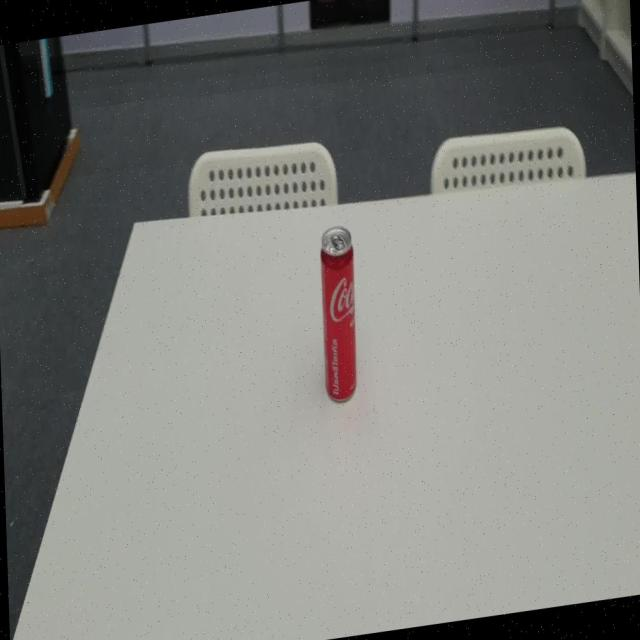coca-cola: (316, 220, 361, 412)
